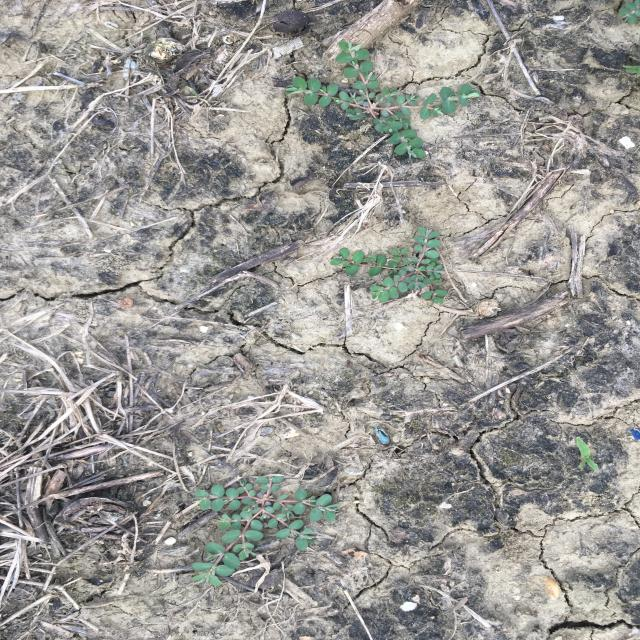SpottedSpurge: (282, 39, 482, 161), (190, 475, 342, 589), (328, 226, 448, 307)
